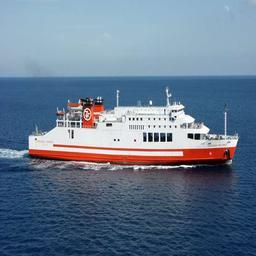Ship: (25, 93, 243, 168)
